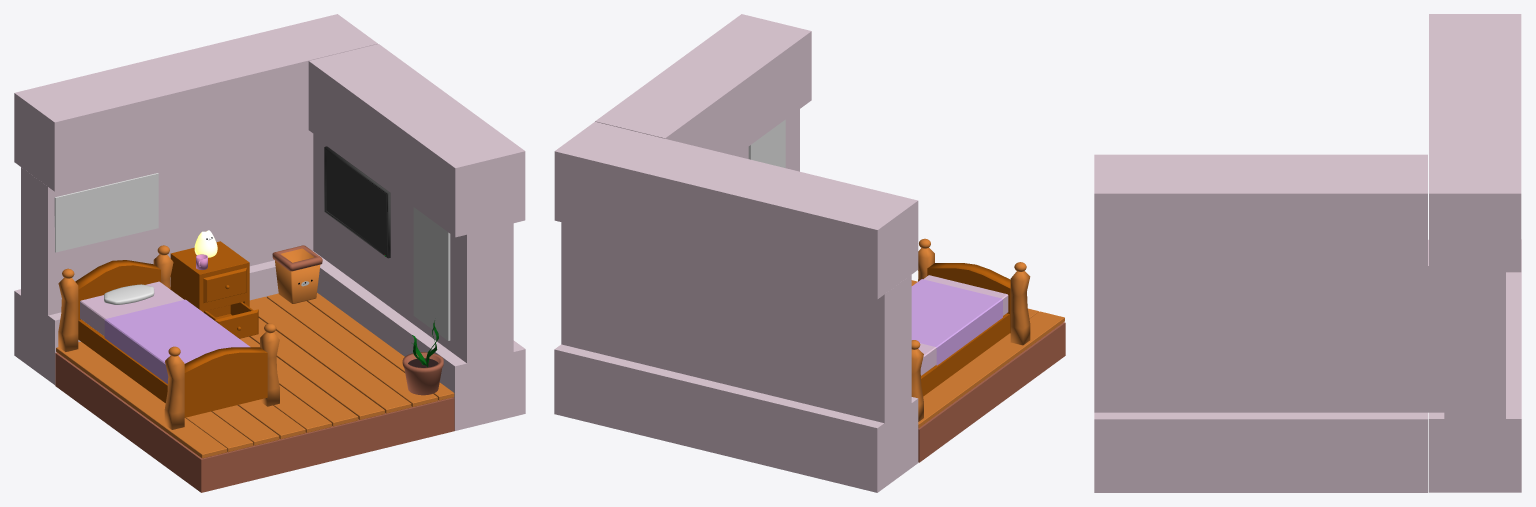
Rendered from room2.glb.
The picture shows the model from 3 angles, left to right: view 1: azimuth 30°, elevation 25°; view 2: azimuth 150°, elevation 25°; view 3: azimuth 270°, elevation 25°; orthographic projection. The views are drawn at different scales.
Visible parts, largest first — view 1: Plane.003, Plane.002, Plane.001, Plane, Cube.009, anya, Cube.010, Cube.003, zhongli, tvScreen, Cube.011, Cube.002 (+8 smaller); view 2: Plane.003, Plane.002, Plane, Cube.009, Plane.001, Cube, Cube.003, Cube.006, zhongli, Cube.001, Cube.004; view 3: Plane.002, Plane.003.
Part boxes in pixels (x1,y1,x2,y2): Plane.003: (14, 14, 377, 384); Plane.002: (308, 44, 525, 430); Plane.001: (56, 293, 454, 458); Plane: (55, 352, 454, 492); Cube.009: (104, 299, 250, 383); anya: (54, 173, 158, 252); Cube.010: (170, 241, 258, 338); Cube.003: (184, 347, 267, 417); zhongli: (413, 207, 450, 340); tvScreen: (326, 150, 386, 254); Cube.011: (272, 245, 322, 303); Cube.002: (75, 260, 160, 320); Plane.003: (554, 121, 918, 492); Plane.002: (595, 14, 811, 171); Plane: (918, 322, 1065, 462); Cube.009: (911, 279, 1002, 365); Plane.001: (911, 280, 1064, 428); Cube: (921, 313, 1009, 396); Cube.003: (927, 263, 1010, 333); Cube.006: (1010, 262, 1030, 345); zhongli: (748, 119, 785, 167); Cube.001: (918, 275, 1008, 375); Cube.004: (911, 340, 923, 421); Plane.002: (1094, 154, 1444, 492); Plane.003: (1428, 14, 1521, 492).
Bounding box in the file's own units: 10.25 × 7.93 × 10.27.
